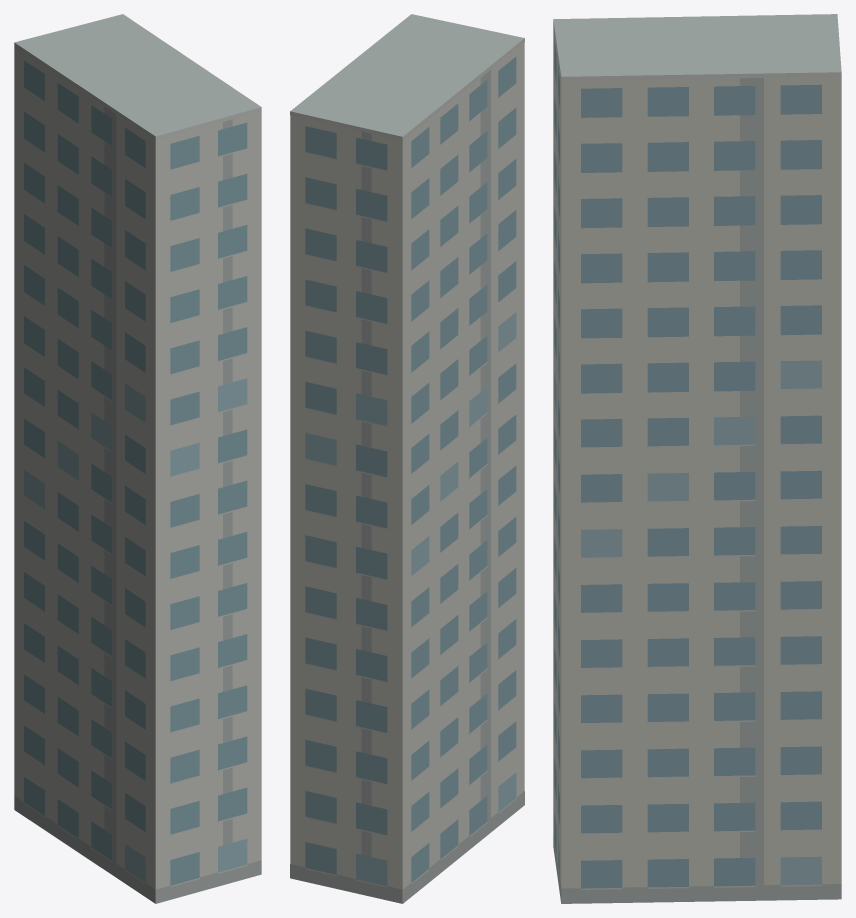
File: survey-upis-32740166.glb
3 renders of one model, left to right at view 1: azimuth 30°, elevation 25°; view 2: azimuth 150°, elevation 25°; view 3: azimuth 270°, elevation 25°, orthographic. The views are drawn at different scales.
Visible parts, largest first — view 1: survey-upis-32740166.tmp; view 2: survey-upis-32740166.tmp; view 3: survey-upis-32740166.tmp.
Boxes of the visible parts, x1,y1,x2,y2 form: survey-upis-32740166.tmp: (14, 14, 261, 903); survey-upis-32740166.tmp: (290, 14, 524, 903); survey-upis-32740166.tmp: (553, 14, 841, 903).
Bounding box in the file's own units: 7.46 × 45.75 × 14.46.
